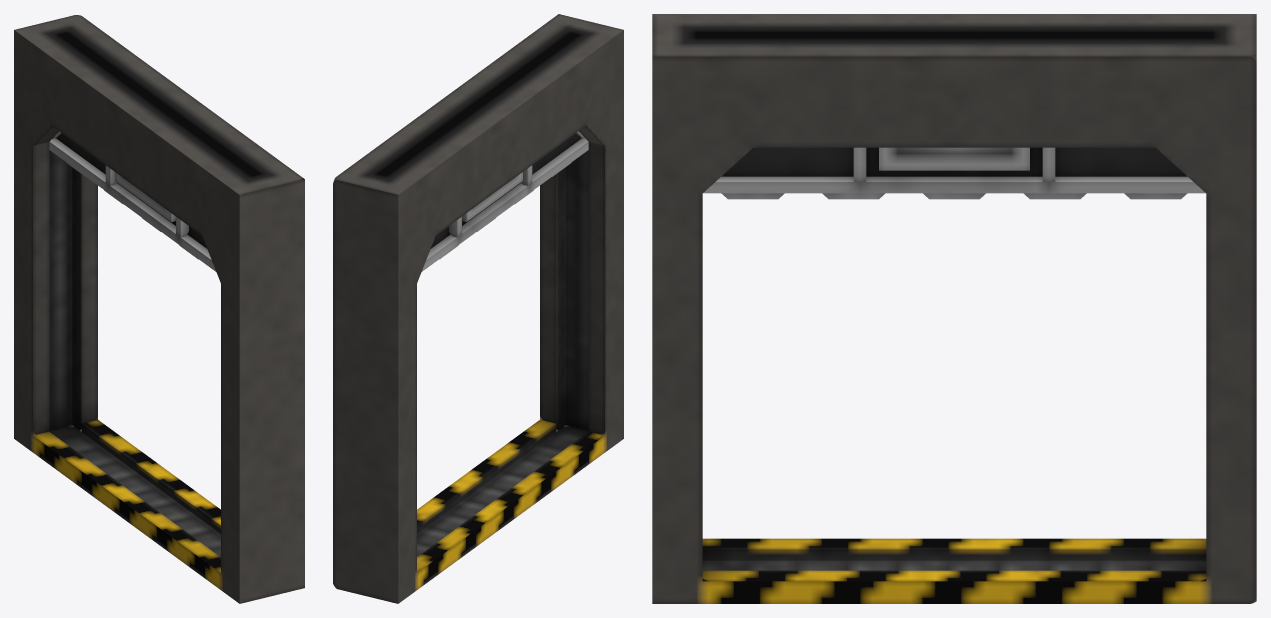
Rendered from qe_containment_147.obj.
3 renders of one model, left to right at view 1: azimuth 30°, elevation 25°; view 2: azimuth 150°, elevation 25°; view 3: azimuth 270°, elevation 25°, orthographic. The views are drawn at different scales.
Parts seen in each view (by area): view 1: Frame, Door; view 2: Frame, Door; view 3: Frame, Door.
Part boxes in pixels (<box>): Frame: <box>14,15,304,603</box>; Door: <box>49,131,216,271</box>; Frame: <box>333,14,623,603</box>; Door: <box>421,131,588,271</box>; Frame: <box>652,14,1256,603</box>; Door: <box>703,147,1205,199</box>.
Size of the model in its own units: 0.5 by 3 by 3.
